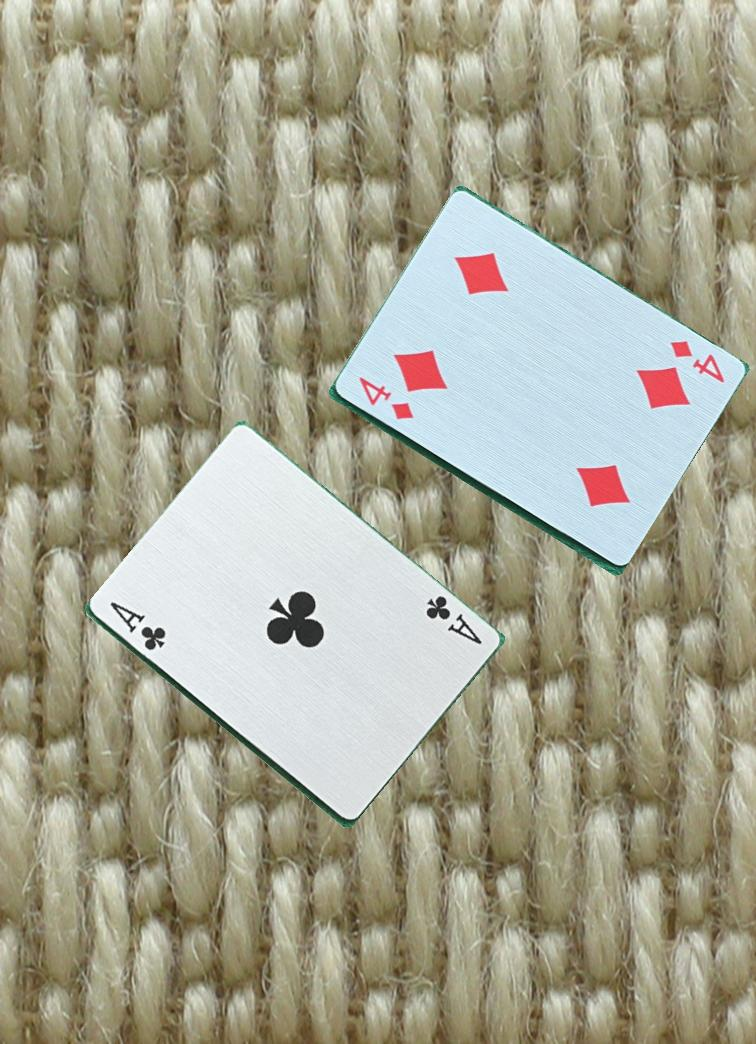4d: (665, 335, 727, 387), (354, 373, 416, 424)
ac: (421, 591, 484, 648), (105, 598, 168, 654)
